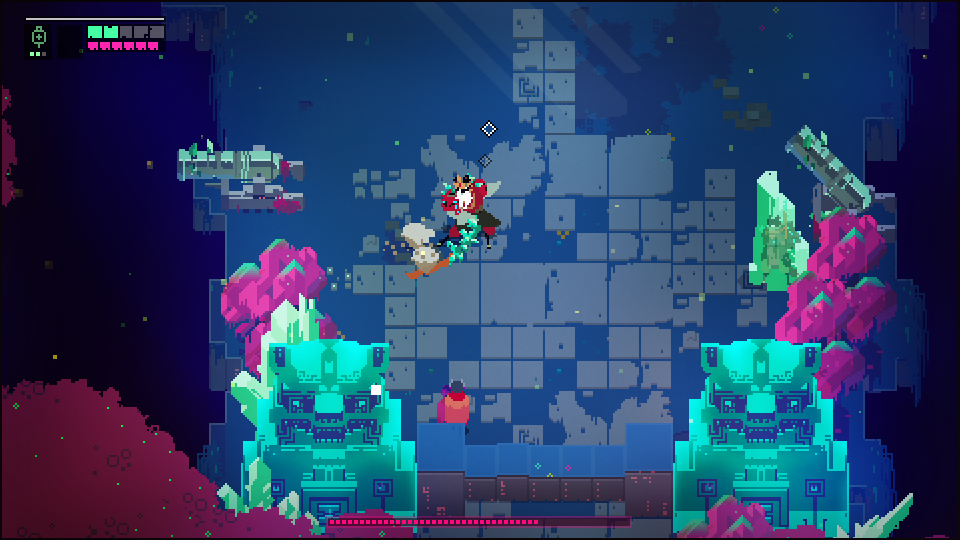hanged_man: (422, 170, 506, 279)
player: (443, 379, 468, 434)
